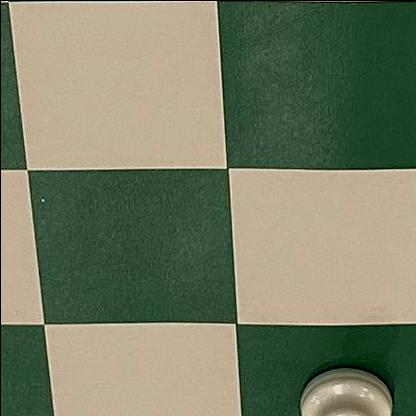white-pawn: (294, 363, 393, 416)
